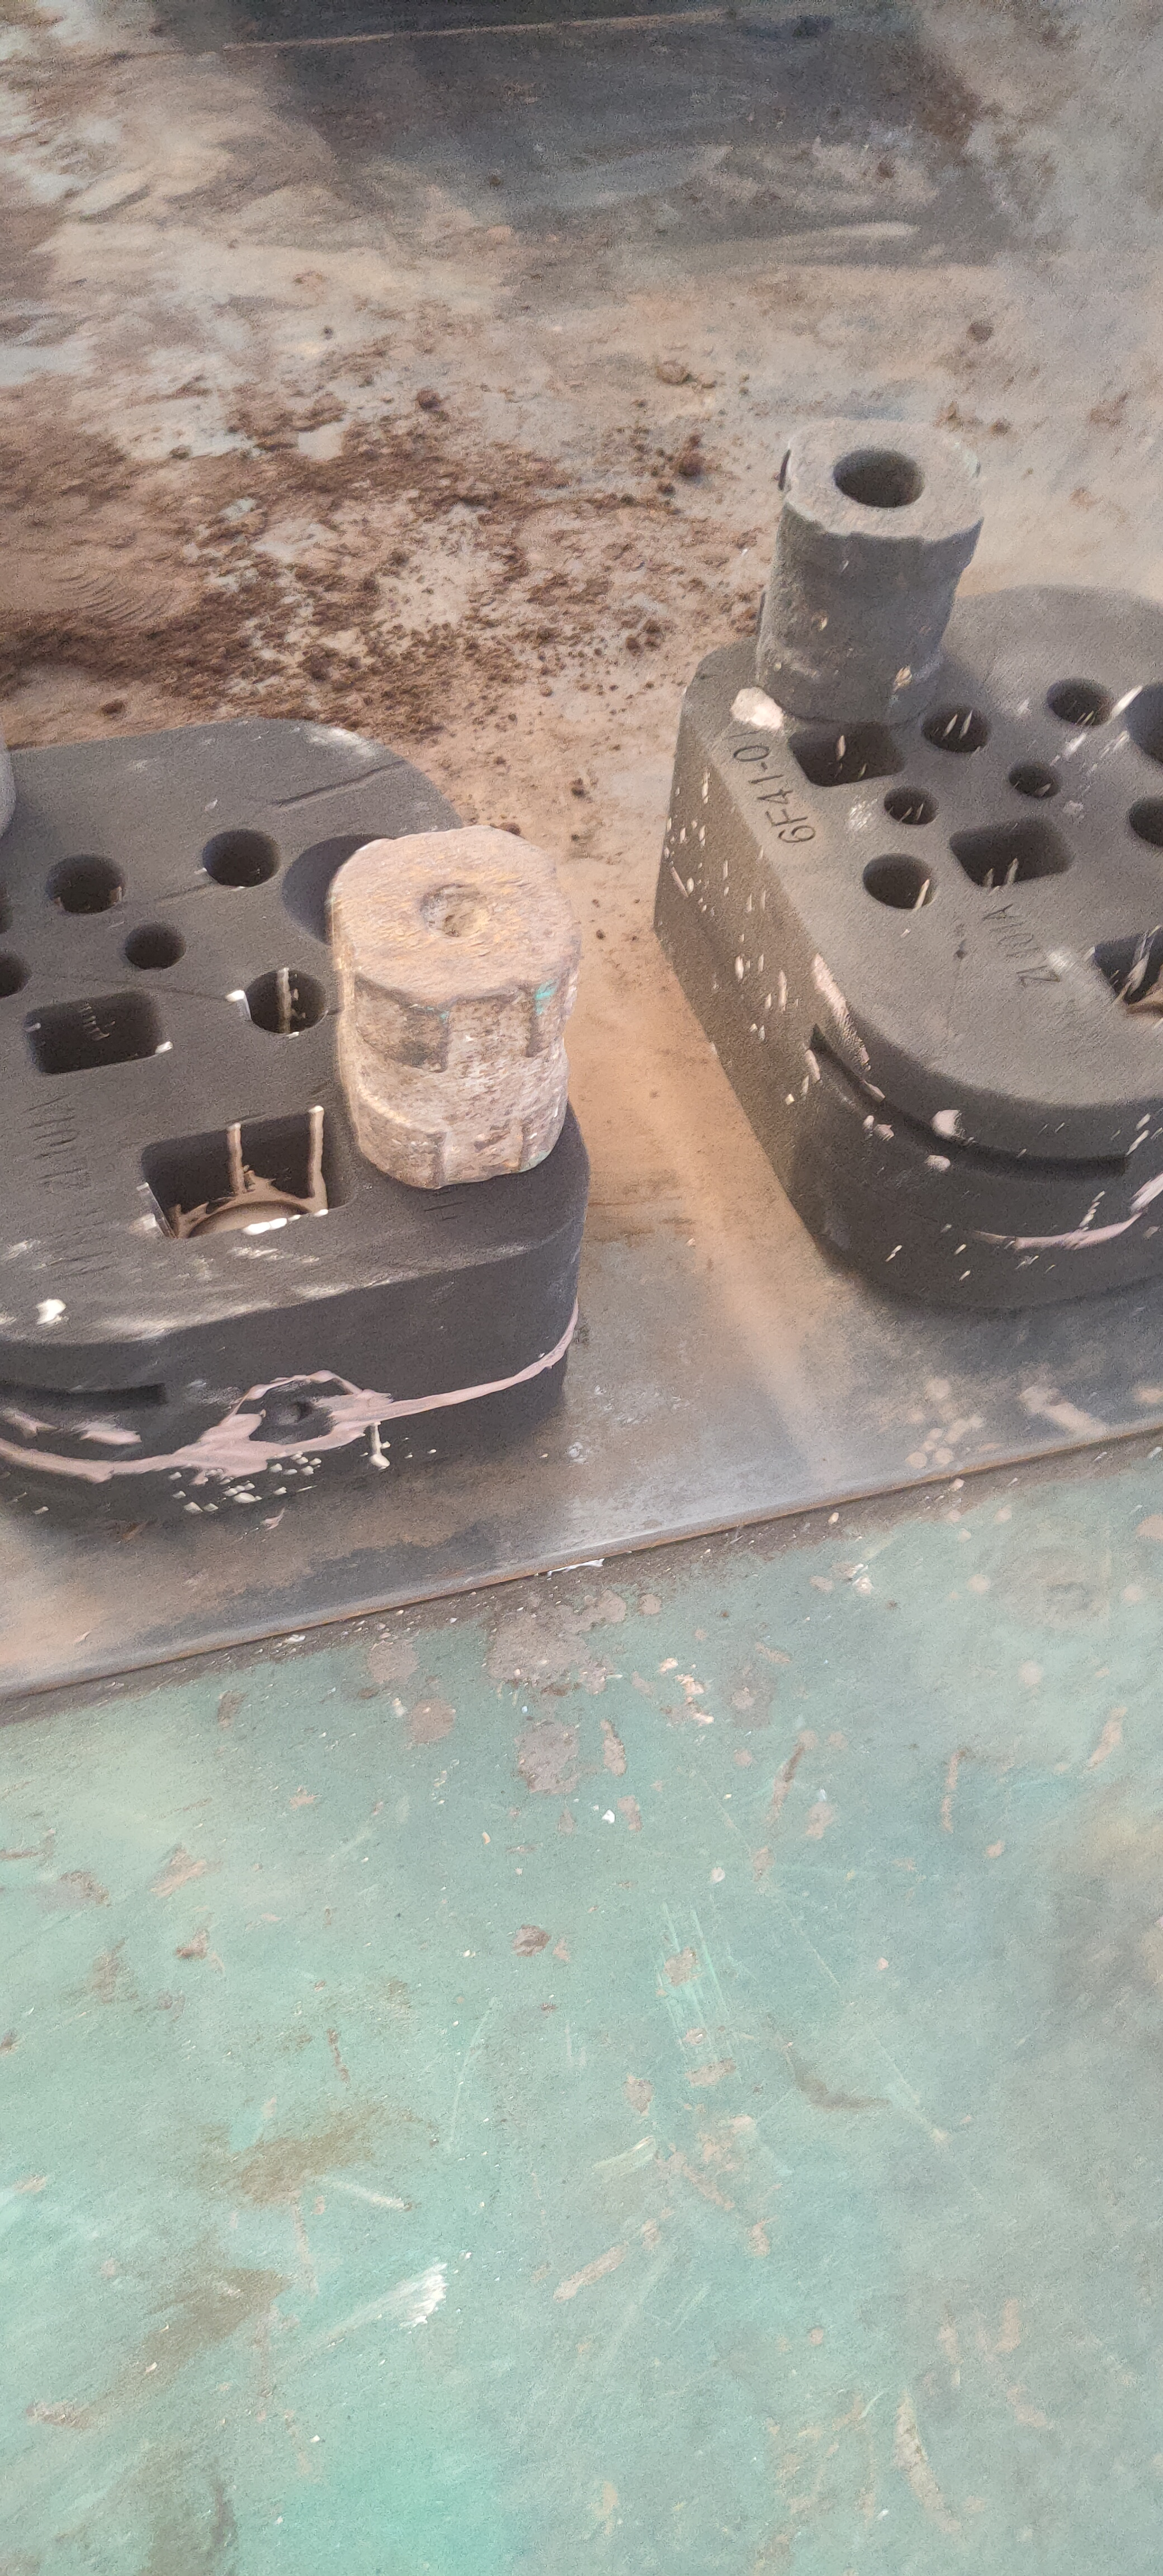pouring hole: (281, 833, 442, 948), (1127, 674, 1163, 774)
